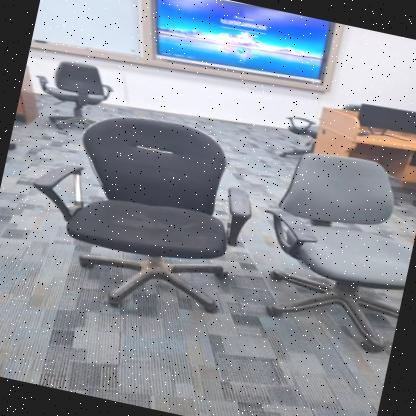chair: (4, 89, 270, 339), (235, 131, 416, 362)
